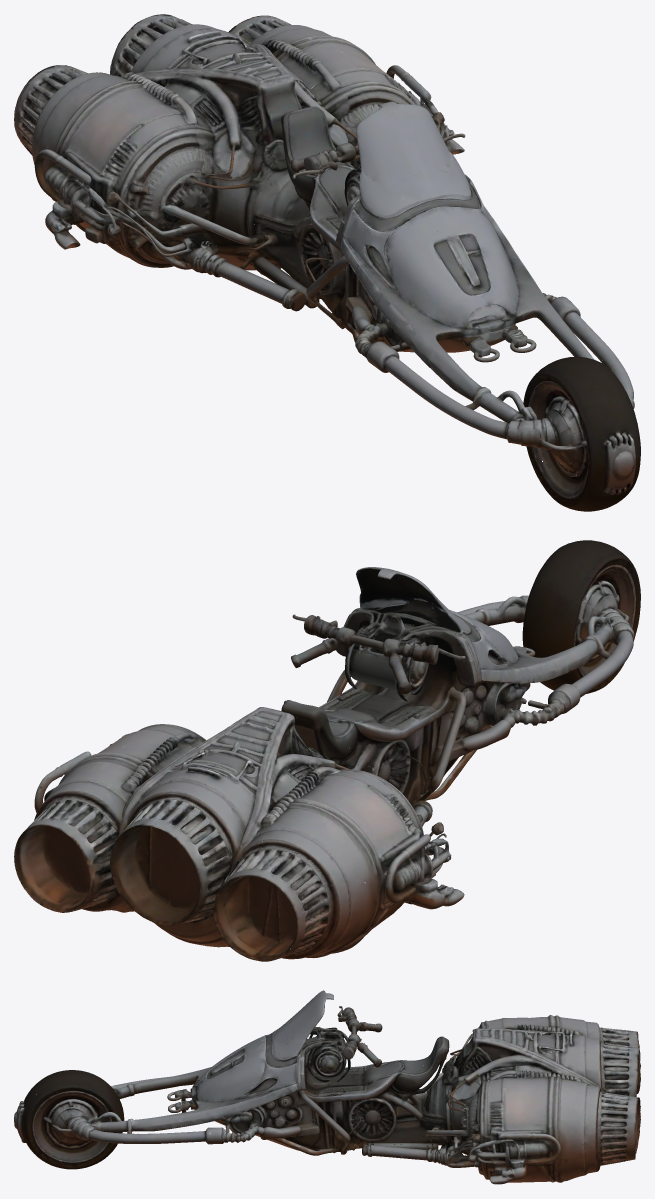
File: speeder2.glb
3 renders of one model, top to bottom at view 1: azimuth 30°, elevation 25°; view 2: azimuth 150°, elevation 25°; view 3: azimuth 270°, elevation 25°, orthographic. The views are drawn at different scales.
Visible parts, largest first — view 1: speeder2; view 2: speeder2; view 3: speeder2.
Part boxes in pixels (x1,y1,x2,y2): speeder2: (14, 14, 640, 511); speeder2: (14, 540, 640, 961); speeder2: (14, 990, 640, 1184).
Bounding box in the file's own units: 1.96 × 1.22 × 4.03.
1 material, 1 textured.
